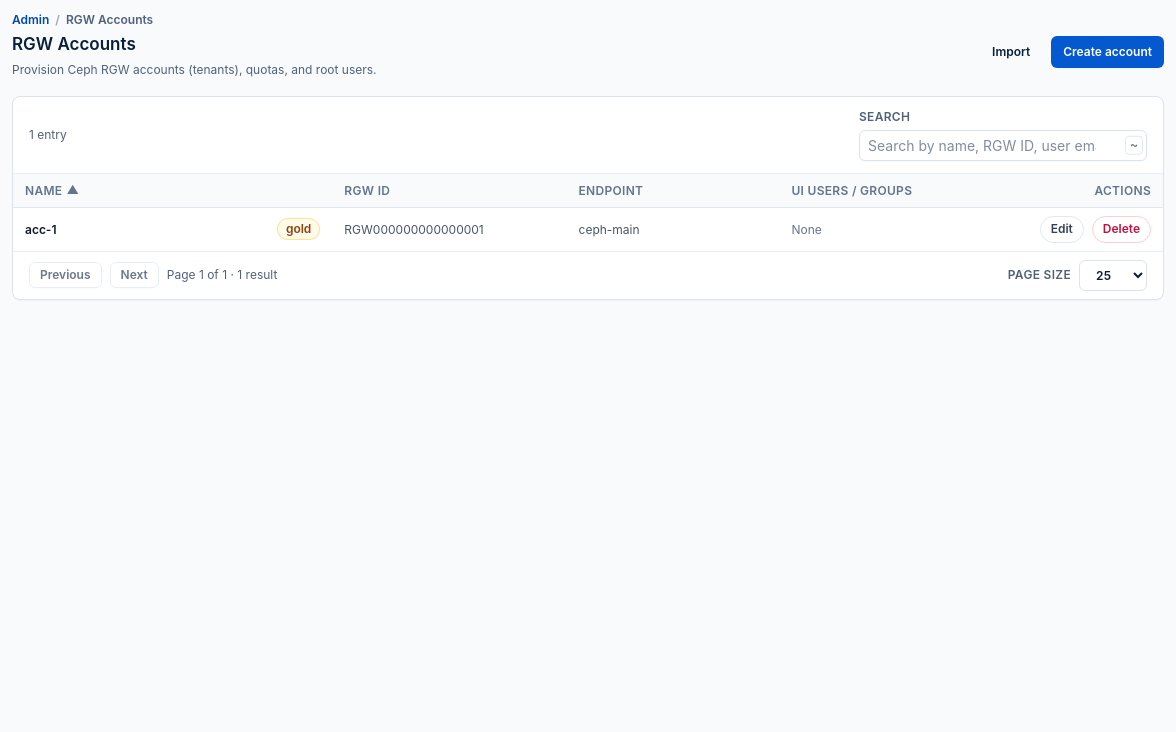
Test: AccountsPage modal tabs › presents account identity and quotas in consistent General sections
Check: the text "acc-1" is shown, box [25,222,56,236]
Click the button "Edit": [1062, 229] box [1040,216,1084,243]
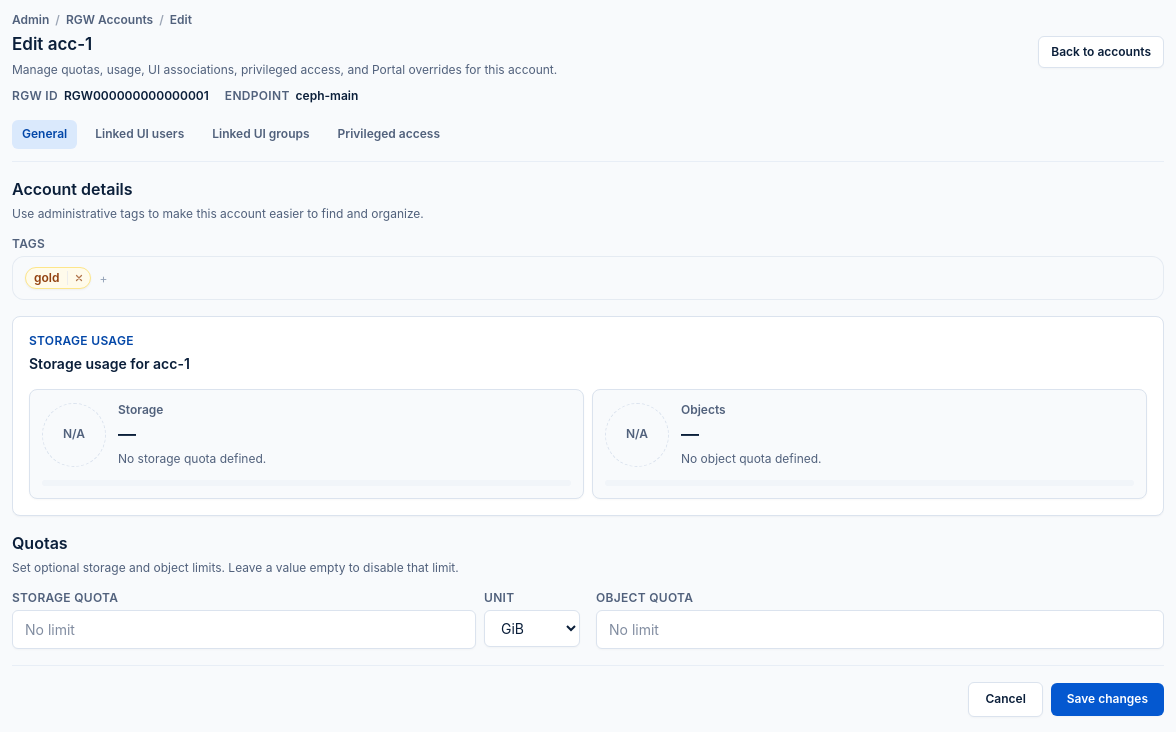
Check: the text "Manage quotas, usage, UI associations, privileged access, and Portal overrides for this account." is shown, box [12,62,557,77]
Check: the heading "Account details" is shown, box [12,178,133,198]
Check: the heading "Quotas" is shown, box [12,532,68,552]
